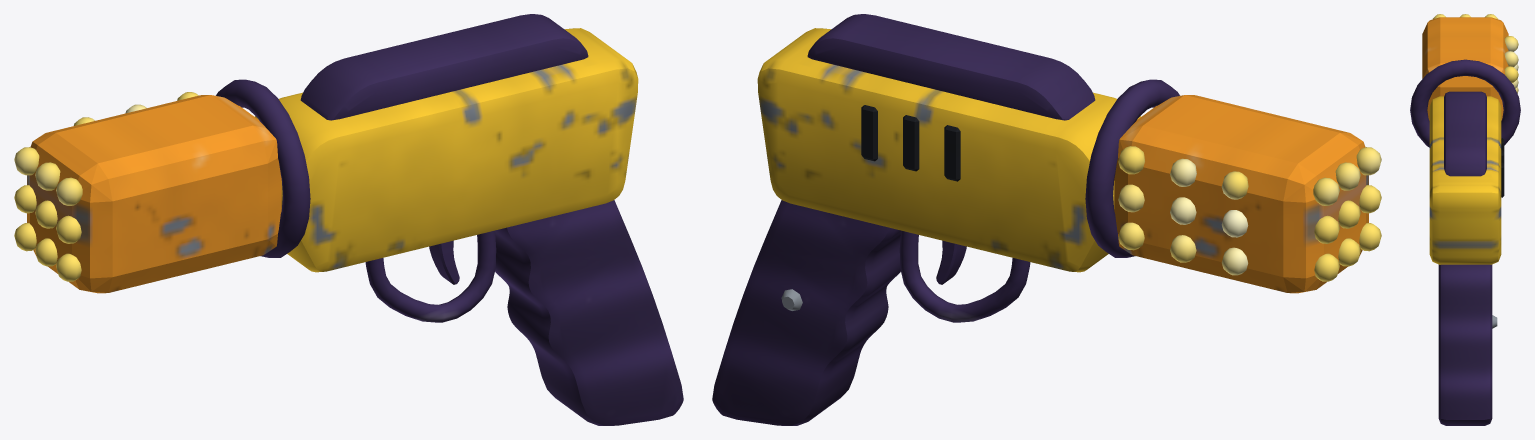
The model's file is LaserPistol.fbx.
3 renders of one model, left to right at view 1: azimuth 30°, elevation 25°; view 2: azimuth 150°, elevation 25°; view 3: azimuth 270°, elevation 25°, orthographic. The views are drawn at different scales.
Visible parts, largest first — view 1: LaserPistol; view 2: LaserPistol; view 3: LaserPistol.
Boxes of the visible parts, x1,y1,x2,y2 form: LaserPistol: [14, 14, 683, 425]; LaserPistol: [712, 14, 1381, 425]; LaserPistol: [1410, 14, 1520, 425].
Size of the model in its own units: 0.609 by 0.3837 by 0.154.
7 materials, 7 textured.
